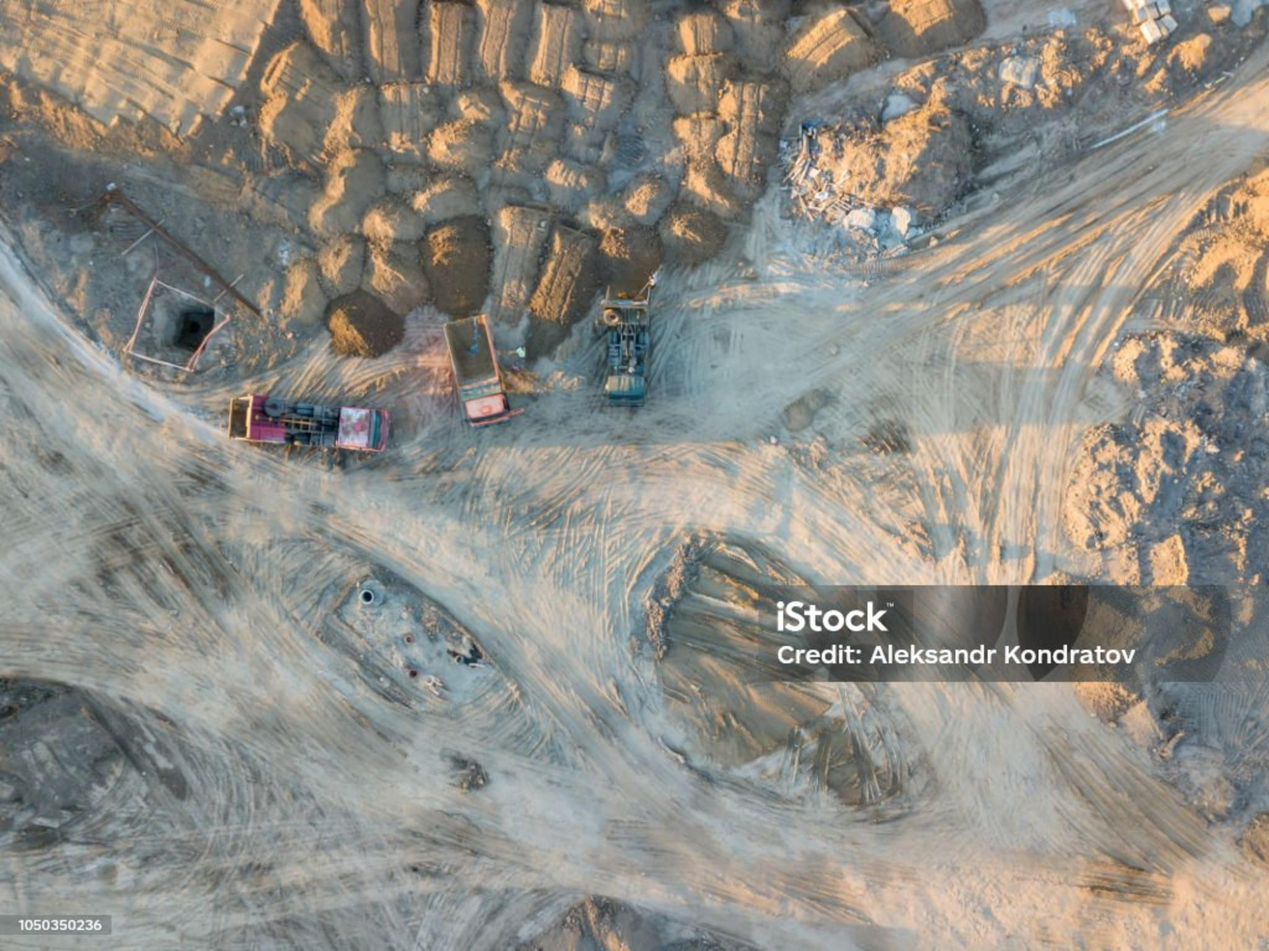truck: (240, 399, 397, 461), (444, 324, 529, 434)
